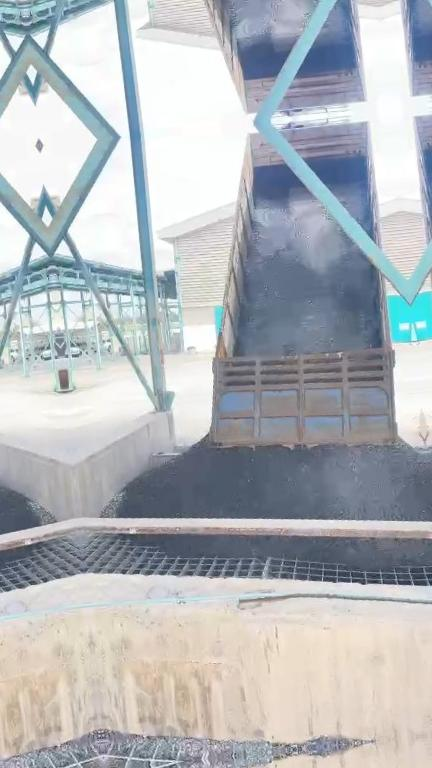gravel: (104, 440, 432, 519), (100, 730, 362, 768), (137, 536, 432, 569)
